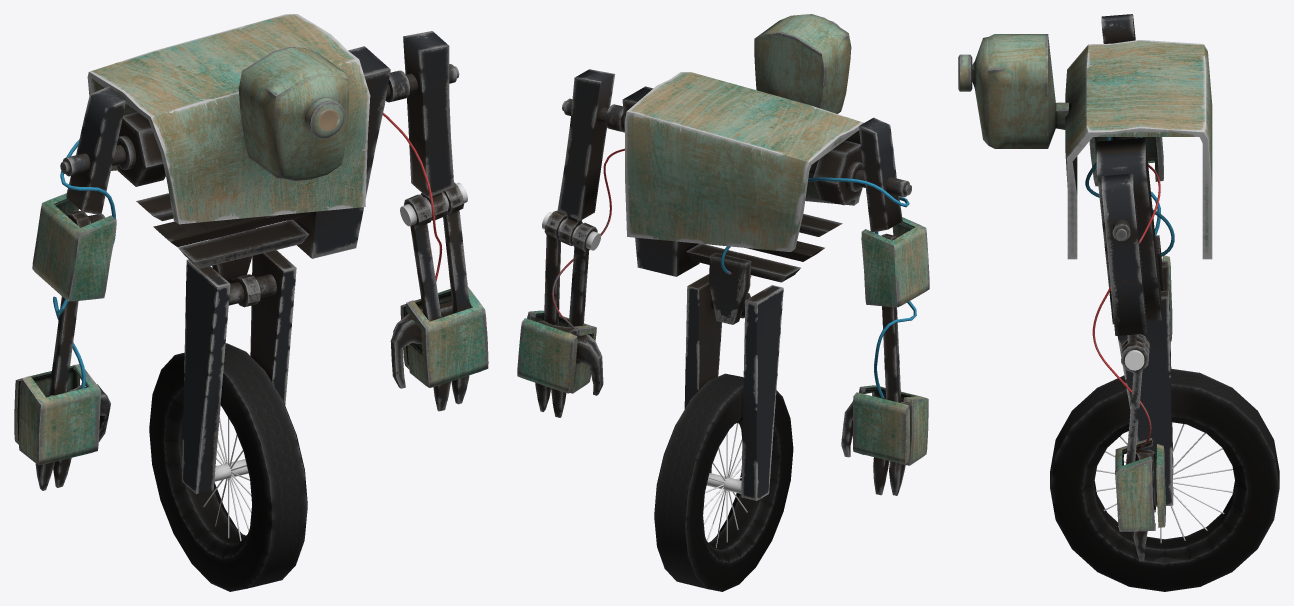
The picture shows the model from 3 angles, left to right: view 1: azimuth 30°, elevation 25°; view 2: azimuth 150°, elevation 25°; view 3: azimuth 270°, elevation 25°; orthographic projection. The views are drawn at different scales.
Parts seen in each view (by area): view 1: BodyTop, WheelMesh, BodyParts, RightArmSkeleton, LeftHand, Head, LeftLeg, LeftArmSkeleton, RightHand, RightLeg, Cables, WheelIrons; view 2: BodyTop, WheelMesh, RightArmSkeleton, BodyParts, LeftHand, Head, LeftLeg, LeftArmSkeleton, RightHand, RightLeg, Cables, WheelIrons; view 3: WheelMesh, BodyTop, Head, RightArmSkeleton, BodyParts, RightLeg, RightHand, Cables, LeftHand, WheelIrons, LeftArmSkeleton.
Boxes of the visible parts, x1=… form: BodyTop: x1=87, y1=14, x2=370, y2=224; WheelMesh: x1=149, y1=343, x2=307, y2=591; BodyParts: x1=60, y1=46, x2=459, y2=307; RightArmSkeleton: x1=385, y1=31, x2=469, y2=411; LeftHand: x1=14, y1=193, x2=116, y2=465; Head: x1=238, y1=46, x2=349, y2=181; LeftLeg: x1=182, y1=259, x2=230, y2=493; LeftArmSkeleton: x1=35, y1=86, x2=125, y2=490; RightHand: x1=400, y1=287, x2=488, y2=387; RightLeg: x1=250, y1=250, x2=296, y2=404; Cables: x1=53, y1=112, x2=442, y2=388; WheelIrons: x1=203, y1=417, x2=251, y2=541; BodyTop: x1=625, y1=72, x2=863, y2=251; WheelMesh: x1=654, y1=373, x2=793, y2=591; RightArmSkeleton: x1=535, y1=69, x2=624, y2=417; BodyParts: x1=562, y1=86, x2=911, y2=324; LeftHand: x1=853, y1=217, x2=929, y2=465; Head: x1=754, y1=14, x2=851, y2=113; LeftLeg: x1=741, y1=285, x2=783, y2=500; LeftArmSkeleton: x1=841, y1=117, x2=908, y2=495; RightHand: x1=517, y1=310, x2=596, y2=393; RightLeg: x1=684, y1=274, x2=722, y2=472; Cables: x1=551, y1=148, x2=916, y2=397; WheelIrons: x1=703, y1=423, x2=747, y2=548; WheelMesh: x1=1050, y1=368, x2=1279, y2=591; BodyTop: x1=1065, y1=40, x2=1212, y2=259; Head: x1=958, y1=34, x2=1068, y2=148; RightArmSkeleton: x1=1101, y1=173, x2=1156, y2=561; BodyParts: x1=1096, y1=137, x2=1164, y2=324; RightLeg: x1=1117, y1=290, x2=1173, y2=506; RightHand: x1=1115, y1=438, x2=1165, y2=531; Cables: x1=1085, y1=137, x2=1174, y2=452; LeftHand: x1=1089, y1=137, x2=1172, y2=341; WheelIrons: x1=1096, y1=424, x2=1233, y2=543; LeftArmSkeleton: x1=1101, y1=14, x2=1138, y2=138.
Size of the model in its own units: 2.48 by 3.06 by 1.65.
14 materials, 14 textured.
